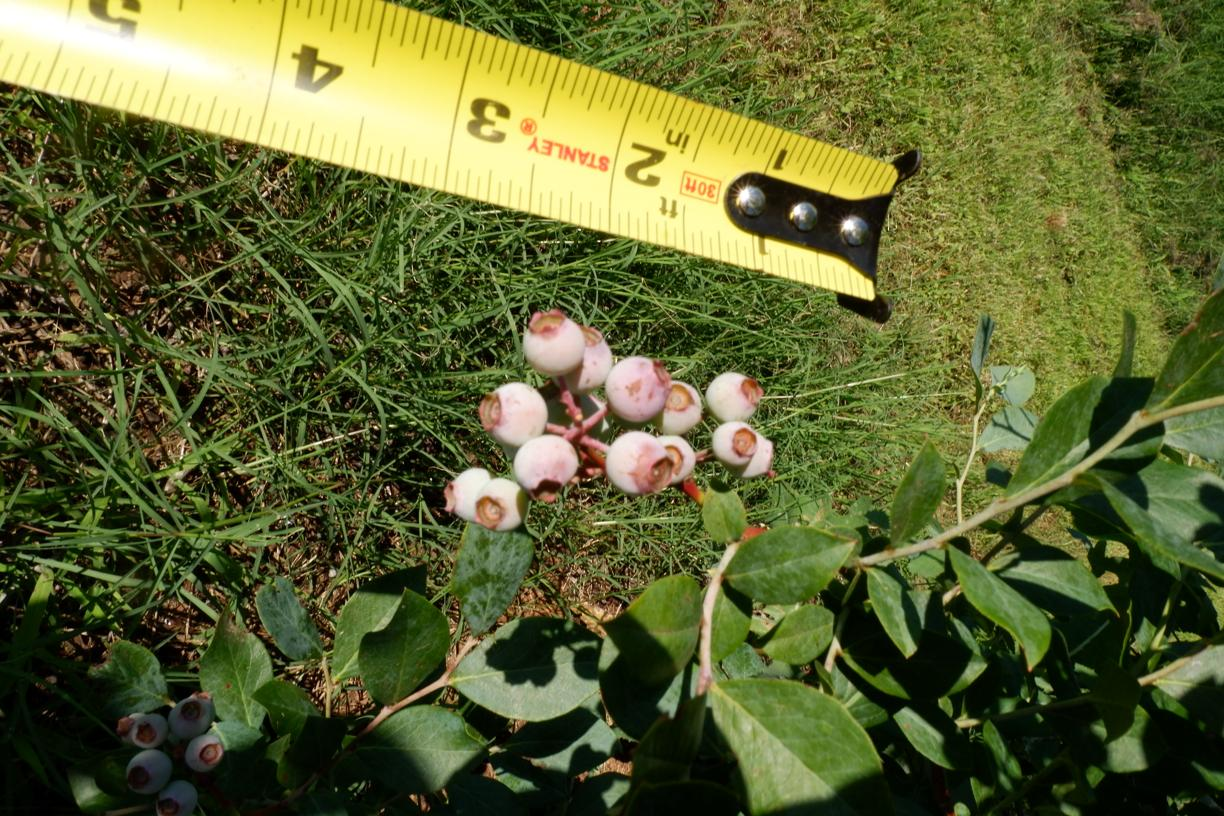Immature: (479, 383, 548, 451), (605, 355, 673, 423), (513, 434, 579, 503), (603, 431, 672, 497), (523, 307, 584, 378), (551, 325, 613, 393), (706, 373, 766, 423), (443, 466, 497, 521), (474, 477, 526, 531), (654, 380, 702, 435), (725, 431, 773, 479), (709, 421, 757, 468), (656, 435, 694, 486)
